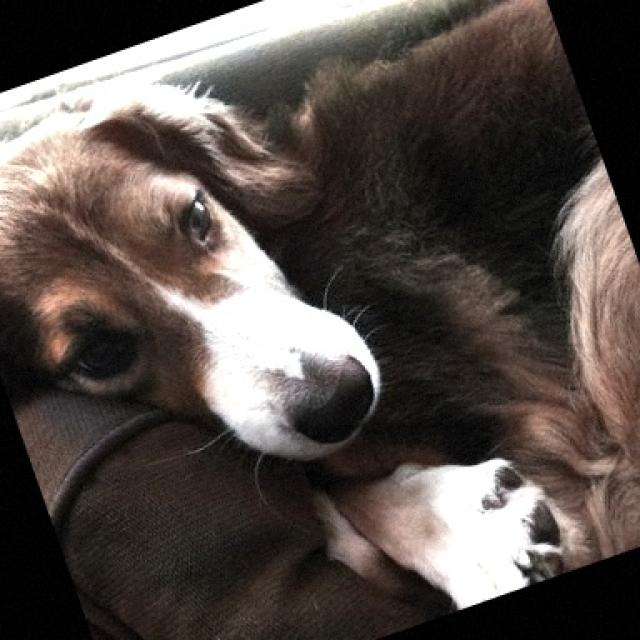sad: (0, 100, 622, 558)
